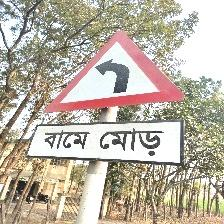Left-Turn: (28, 28, 186, 165)
